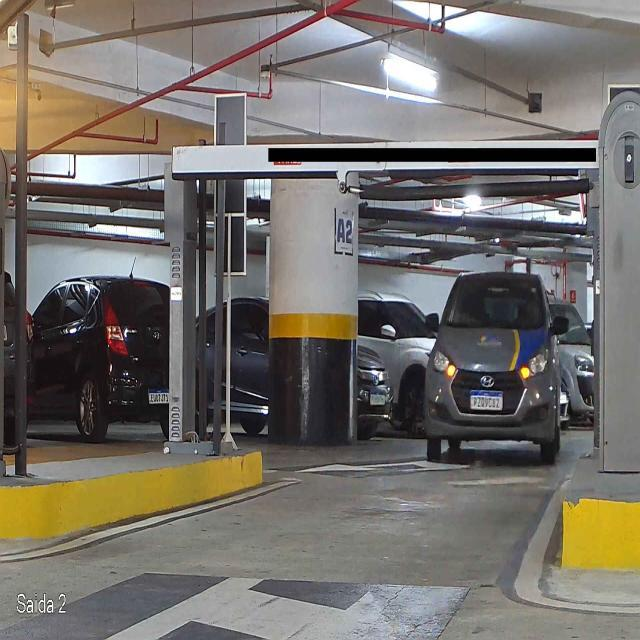mercosul_plate: (469, 389, 505, 411)
